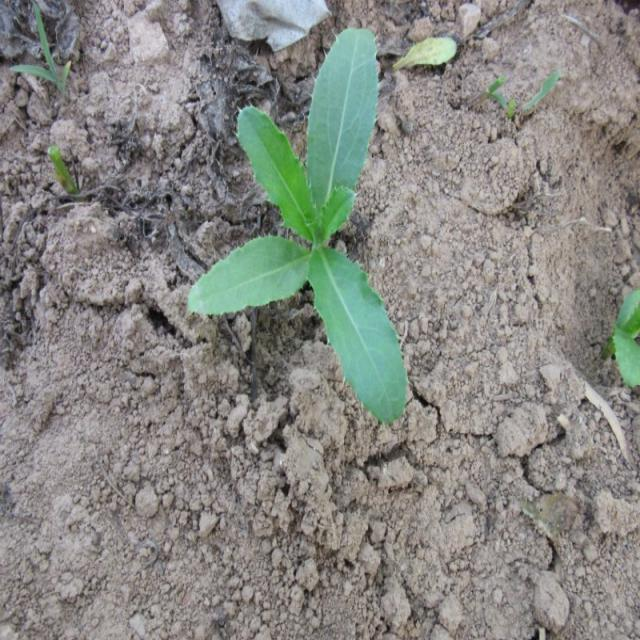cs: (189, 26, 407, 424)
